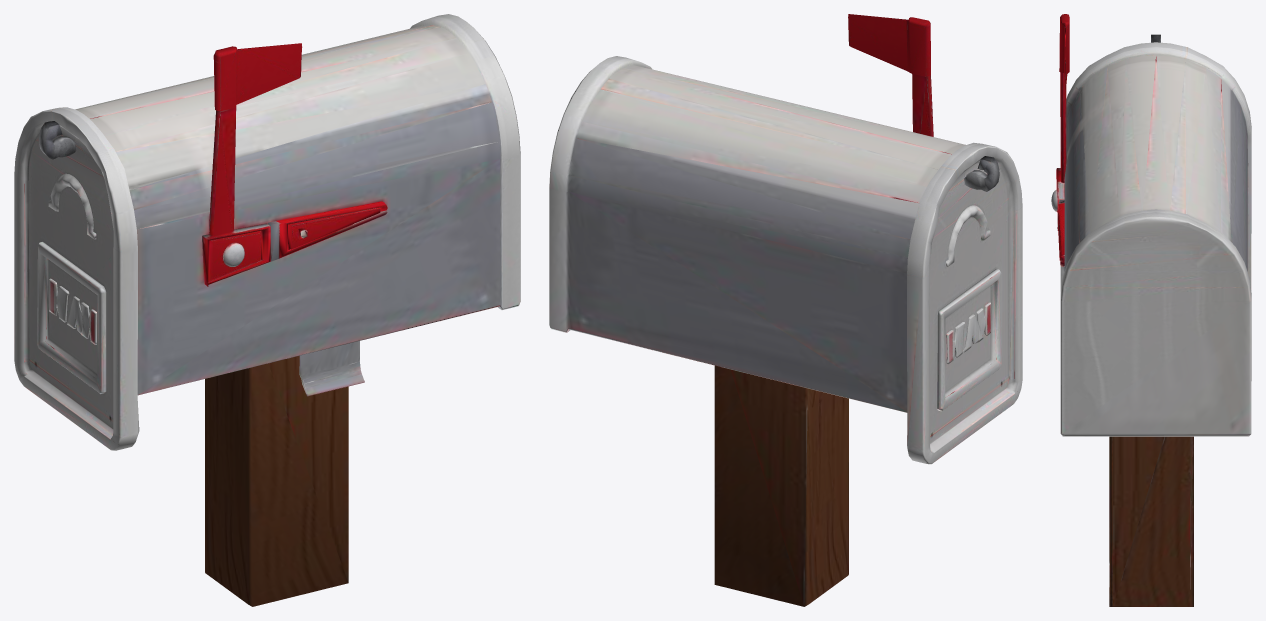
Rendered from prp_mailbox.glb.
3 renders of one model, left to right at view 1: azimuth 30°, elevation 25°; view 2: azimuth 150°, elevation 25°; view 3: azimuth 270°, elevation 25°, orthographic. The views are drawn at different scales.
Bounding box in the file's own units: 0.7241 × 0.9526 × 0.3296.
Materials: 1 (1 with a texture image).
